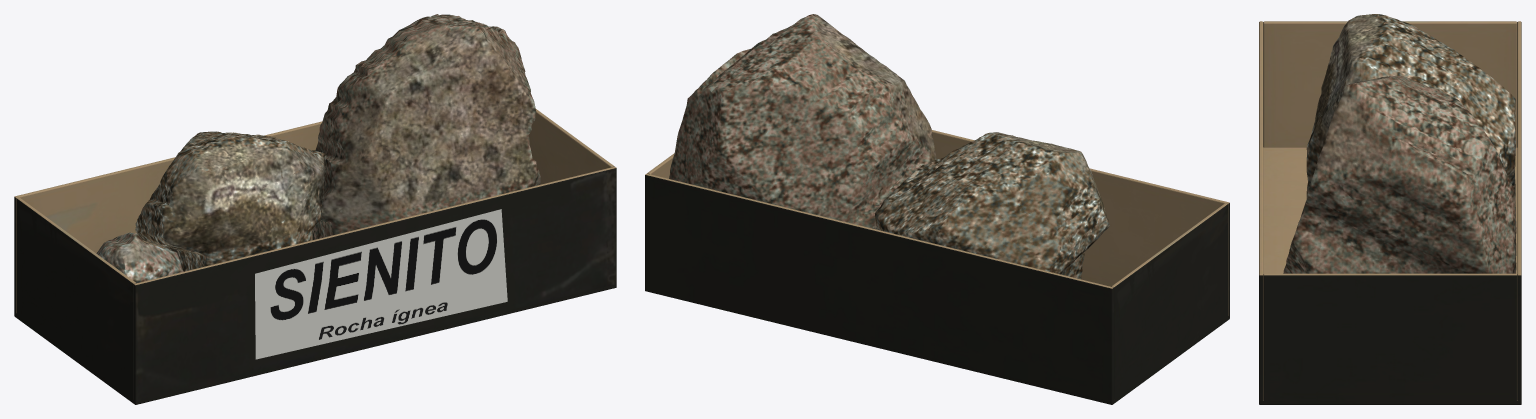
Rendered from rocha_02_12_sienito.glb.
The picture shows the model from 3 angles, left to right: view 1: azimuth 30°, elevation 25°; view 2: azimuth 150°, elevation 25°; view 3: azimuth 270°, elevation 25°; orthographic projection. The views are drawn at different scales.
Parts seen in each view (by area): view 1: Bandeja_Frente_mo12, Fragmento_02_mo12, Etiqueta_mo12, Fragmento_01_mo12, Bandeja_Esquerda_mo12, Bandeja_Fundo_mo12, Bandeja_Direita_mo12, Fragmento_03_mo12, Bandeja_Base_mo12; view 2: Bandeja_Fundo_mo12, Fragmento_02_mo12, Fragmento_01_mo12, Bandeja_Esquerda_mo12, Bandeja_Frente_mo12, Bandeja_Base_mo12; view 3: Fragmento_02_mo12, Bandeja_Direita_mo12, Fragmento_01_mo12, Bandeja_Esquerda_mo12, Bandeja_Base_mo12, Bandeja_Fundo_mo12, Bandeja_Frente_mo12.
Boxes of the visible parts, x1,y1,x2,y2 form: Bandeja_Frente_mo12: [133, 166, 616, 404]; Fragmento_02_mo12: [312, 14, 540, 239]; Etiqueta_mo12: [255, 209, 507, 359]; Fragmento_01_mo12: [135, 131, 325, 271]; Bandeja_Esquerda_mo12: [16, 197, 135, 402]; Bandeja_Fundo_mo12: [14, 121, 322, 315]; Bandeja_Direita_mo12: [528, 109, 614, 184]; Fragmento_03_mo12: [96, 232, 183, 283]; Bandeja_Base_mo12: [14, 284, 616, 404]; Bandeja_Fundo_mo12: [645, 173, 1113, 404]; Fragmento_02_mo12: [669, 14, 936, 229]; Fragmento_01_mo12: [874, 132, 1109, 279]; Bandeja_Esquerda_mo12: [1111, 203, 1227, 402]; Bandeja_Frente_mo12: [932, 130, 1229, 315]; Bandeja_Base_mo12: [645, 288, 1229, 404]; Fragmento_02_mo12: [1283, 75, 1516, 273]; Bandeja_Direita_mo12: [1263, 273, 1517, 404]; Fragmento_01_mo12: [1306, 14, 1515, 198]; Bandeja_Esquerda_mo12: [1263, 21, 1517, 147]; Bandeja_Base_mo12: [1259, 147, 1521, 404]; Bandeja_Fundo_mo12: [1517, 21, 1521, 404]; Bandeja_Frente_mo12: [1259, 21, 1263, 404].
Size of the model in its own units: 0.2054 by 0.1023 by 0.09.
Materials: 3 (3 with a texture image).
